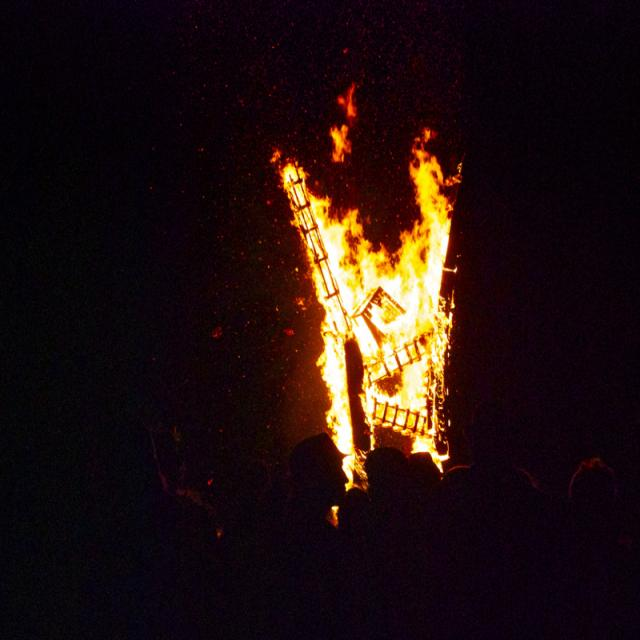fire: (242, 92, 541, 543)
